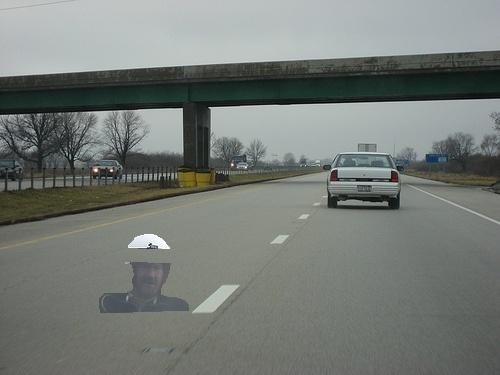tampered: (100, 235, 189, 313)
